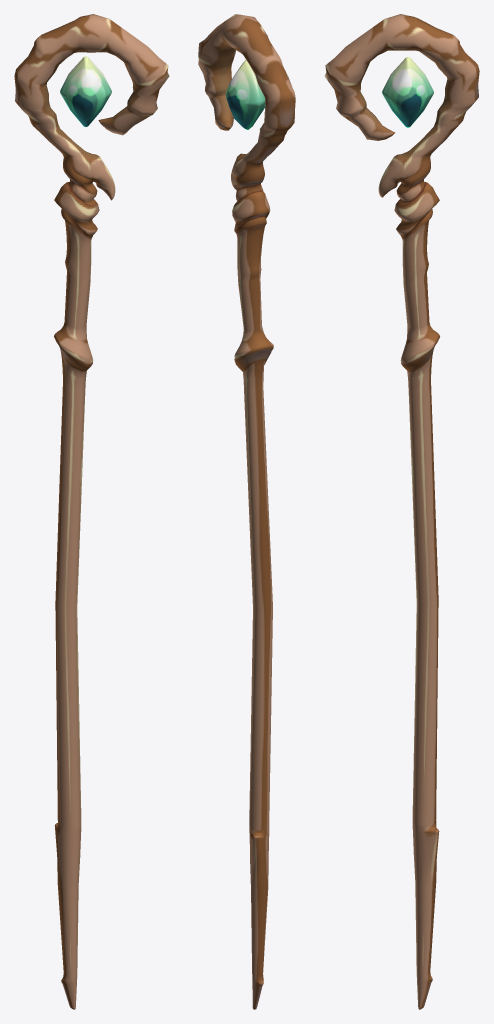
File: GrassWonderStaff.fbx
3 views of the same model, side by side, from view 1: azimuth 90°, elevation 25°; view 2: azimuth 210°, elevation 25°; view 3: azimuth 270°, elevation 25° (orthographic).
Visible parts, largest first — view 1: GrassStaff; view 2: GrassStaff; view 3: GrassStaff.
Part boxes in pixels (x1,y1,x2,y2): GrassStaff: (14, 14, 169, 1009); GrassStaff: (198, 14, 295, 1009); GrassStaff: (324, 14, 479, 1009).
Size of the model in its own units: 0.0358 by 0.8738 by 0.1236.
